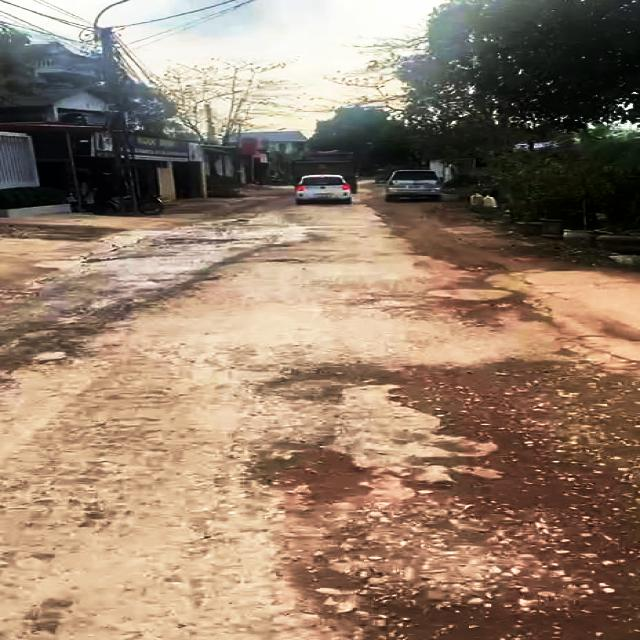pothole: (288, 563, 640, 640), (397, 451, 578, 506), (256, 443, 381, 503)
